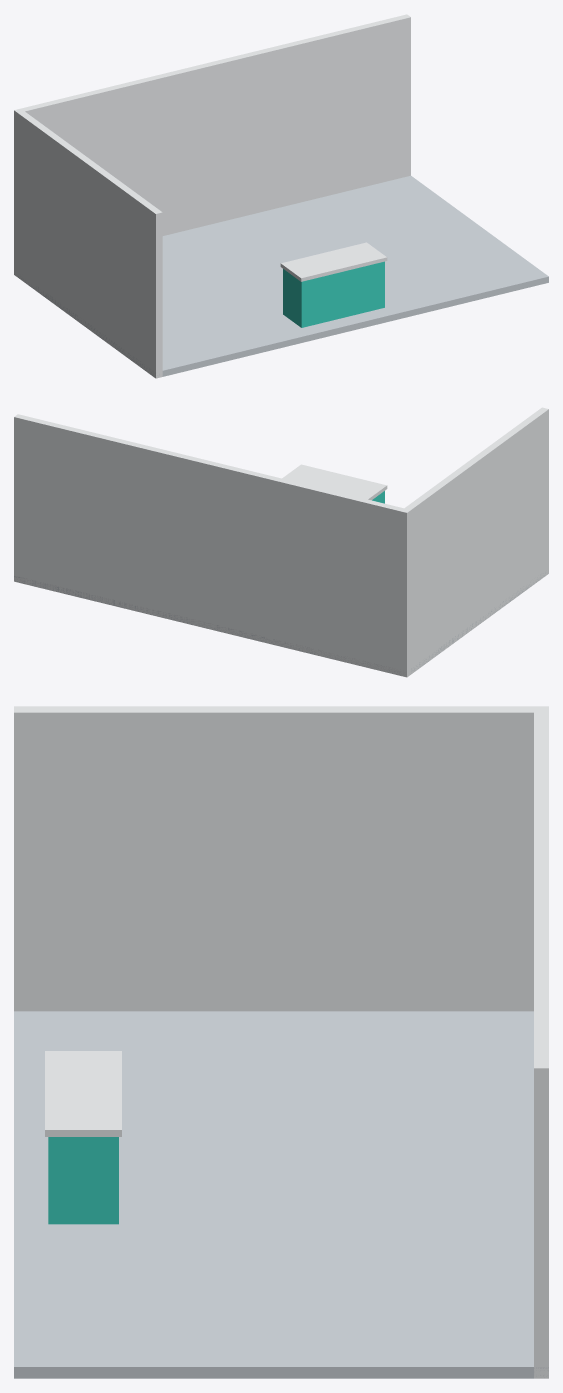
The picture shows the model from 3 angles, top to bottom: view 1: azimuth 30°, elevation 25°; view 2: azimuth 150°, elevation 25°; view 3: azimuth 270°, elevation 25°; orthographic projection. The views are drawn at different scales.
Parts seen in each view (by area): view 1: Exhibition Booth Concept; view 2: Exhibition Booth Concept; view 3: Exhibition Booth Concept.
Part boxes in pixels (x1,y1,x2,y2): Exhibition Booth Concept: (14,14,548,378); Exhibition Booth Concept: (14,407,548,677); Exhibition Booth Concept: (14,706,548,1378).
Size of the model in its own units: 8 by 3.2 by 5.
